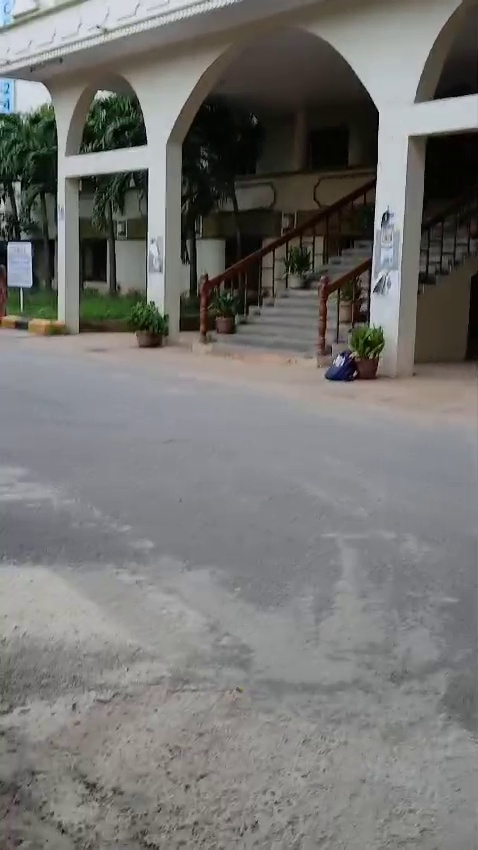bag: (323, 349, 356, 384)
